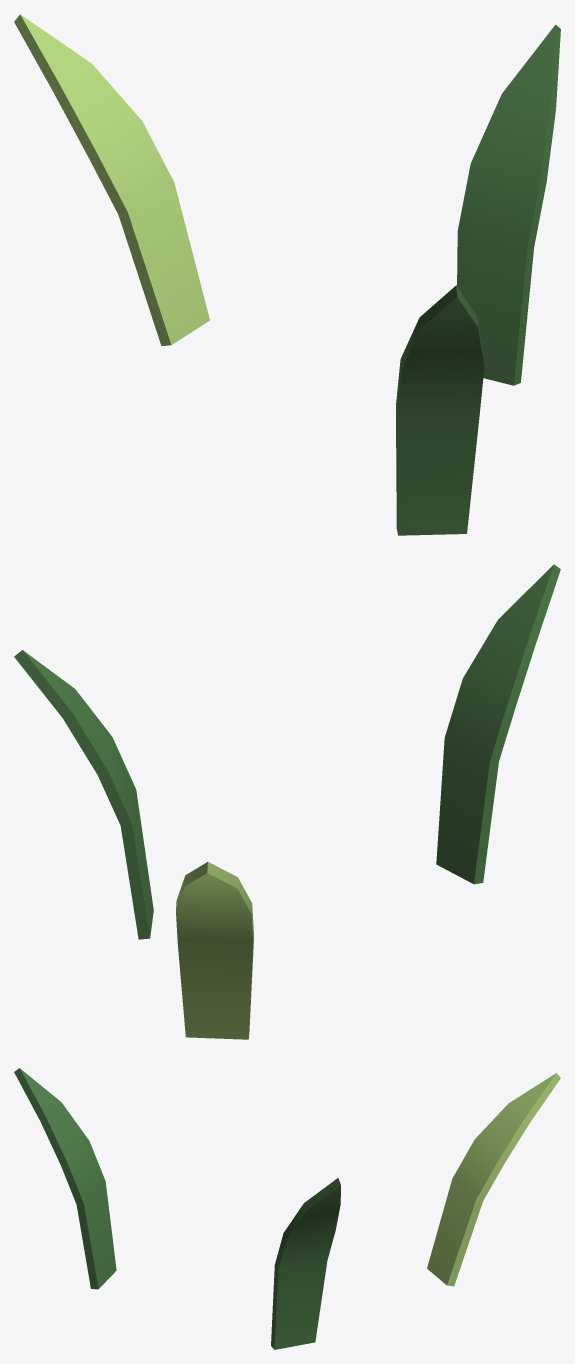
Rendered from Herbe_08.fbx.
3 views of the same model, one above another, from view 1: azimuth 30°, elevation 25°; view 2: azimuth 150°, elevation 25°; view 3: azimuth 270°, elevation 25° (orthographic). The views are drawn at different scales.
Parts seen in each view (by area): view 1: Herbe_08; view 2: Herbe_08; view 3: Herbe_08.
Part boxes in pixels (bbox=[...]): Herbe_08: bbox=[14, 14, 560, 535]; Herbe_08: bbox=[14, 564, 560, 1039]; Herbe_08: bbox=[14, 1068, 560, 1349].
Bounding box in the file's own units: 41.27 × 31.61 × 78.29.
1 material, 1 textured.
